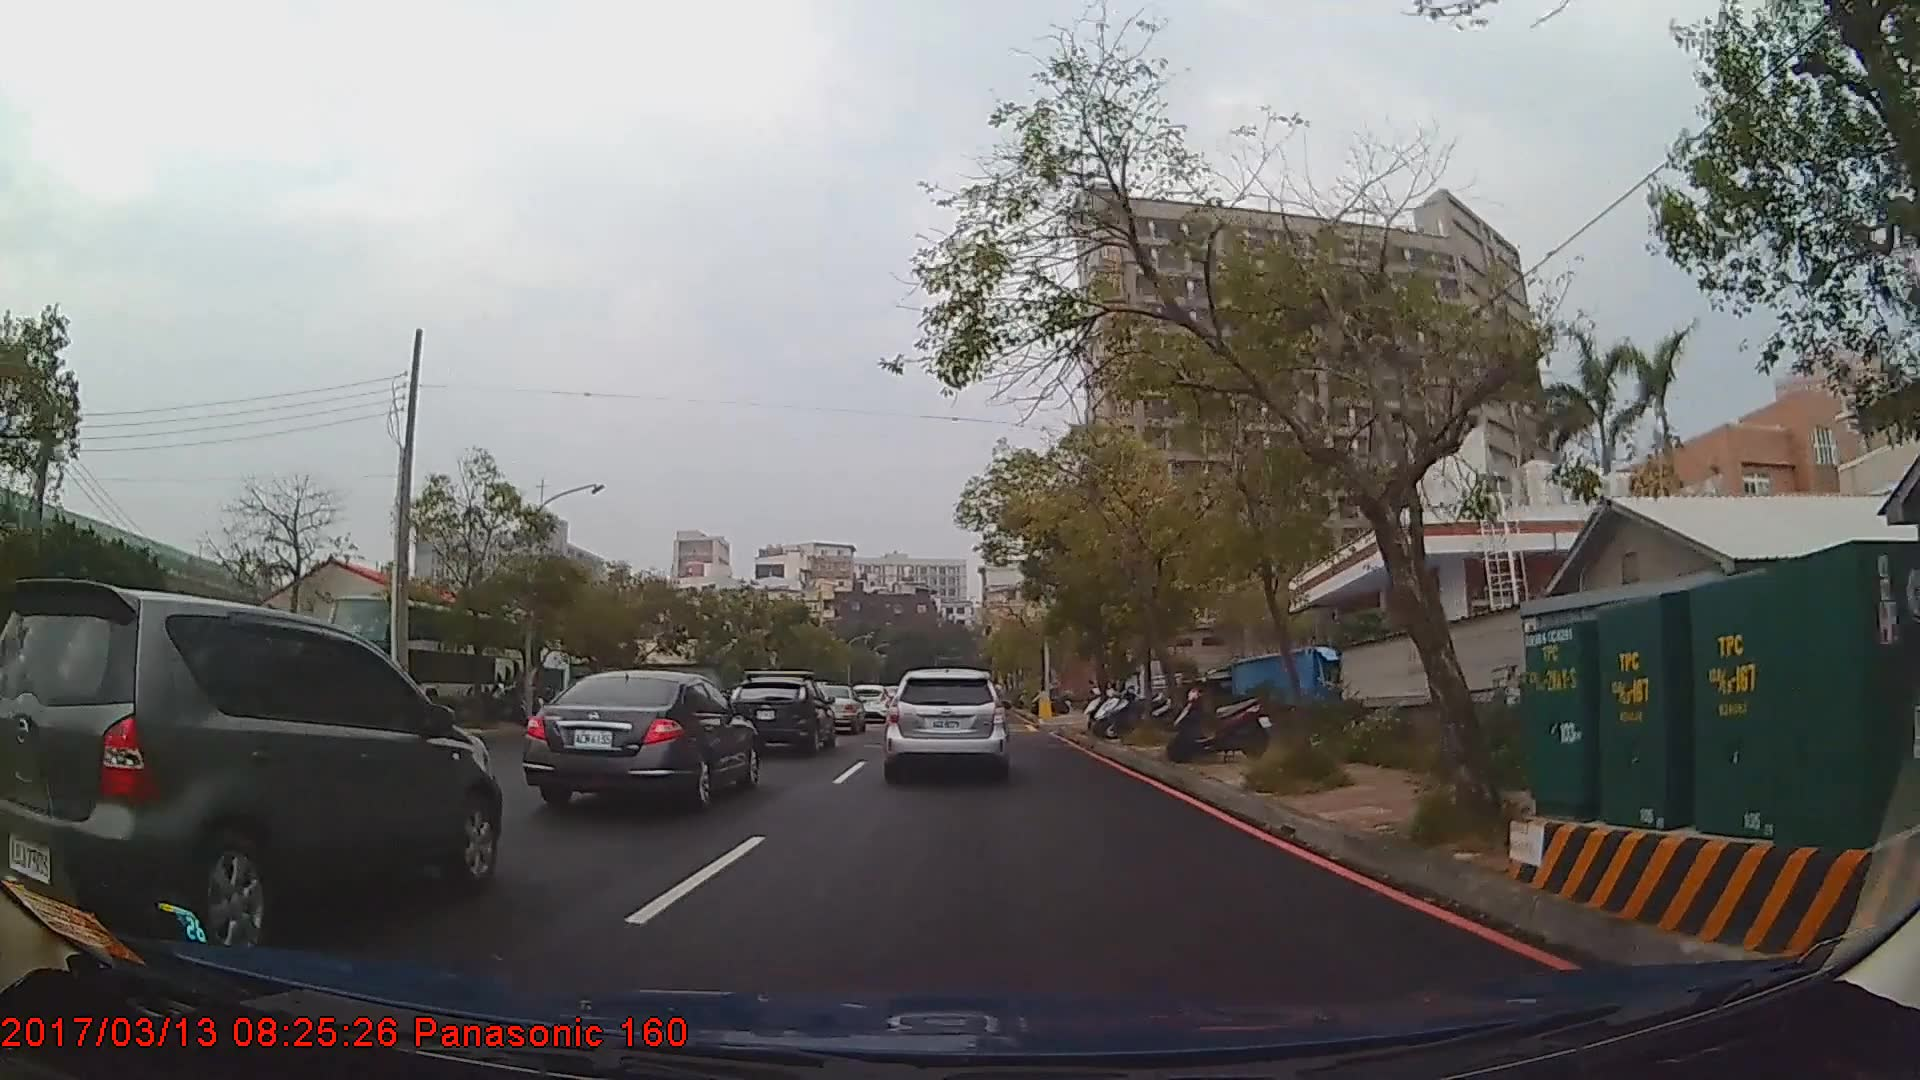vehicle: (0, 580, 498, 942), (521, 667, 760, 812), (324, 593, 525, 711), (884, 666, 1010, 781), (727, 670, 833, 754), (810, 683, 866, 735), (847, 680, 891, 721)
